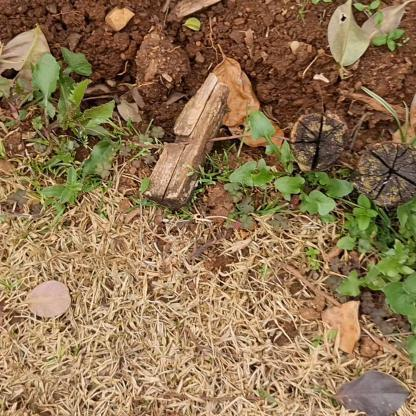Weeds: (231, 107, 415, 366), (15, 47, 122, 203), (313, 0, 402, 52), (43, 167, 86, 205)
